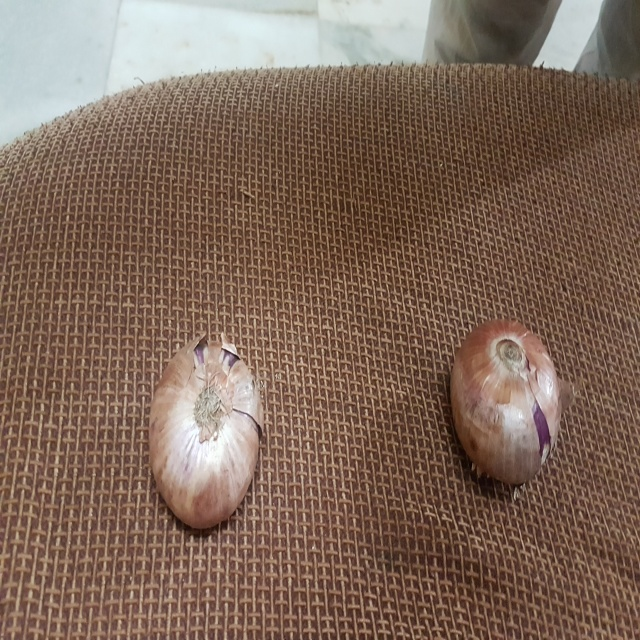onion: (133, 328, 275, 538), (438, 310, 575, 501)
